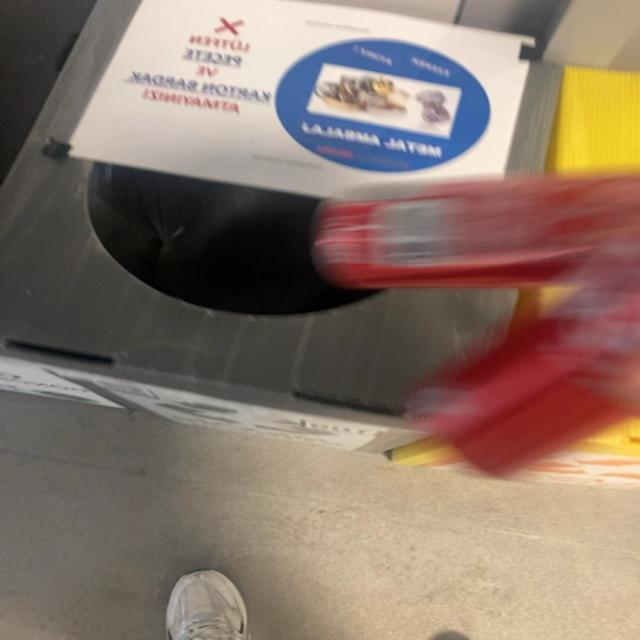Metal: (315, 176, 640, 476)
